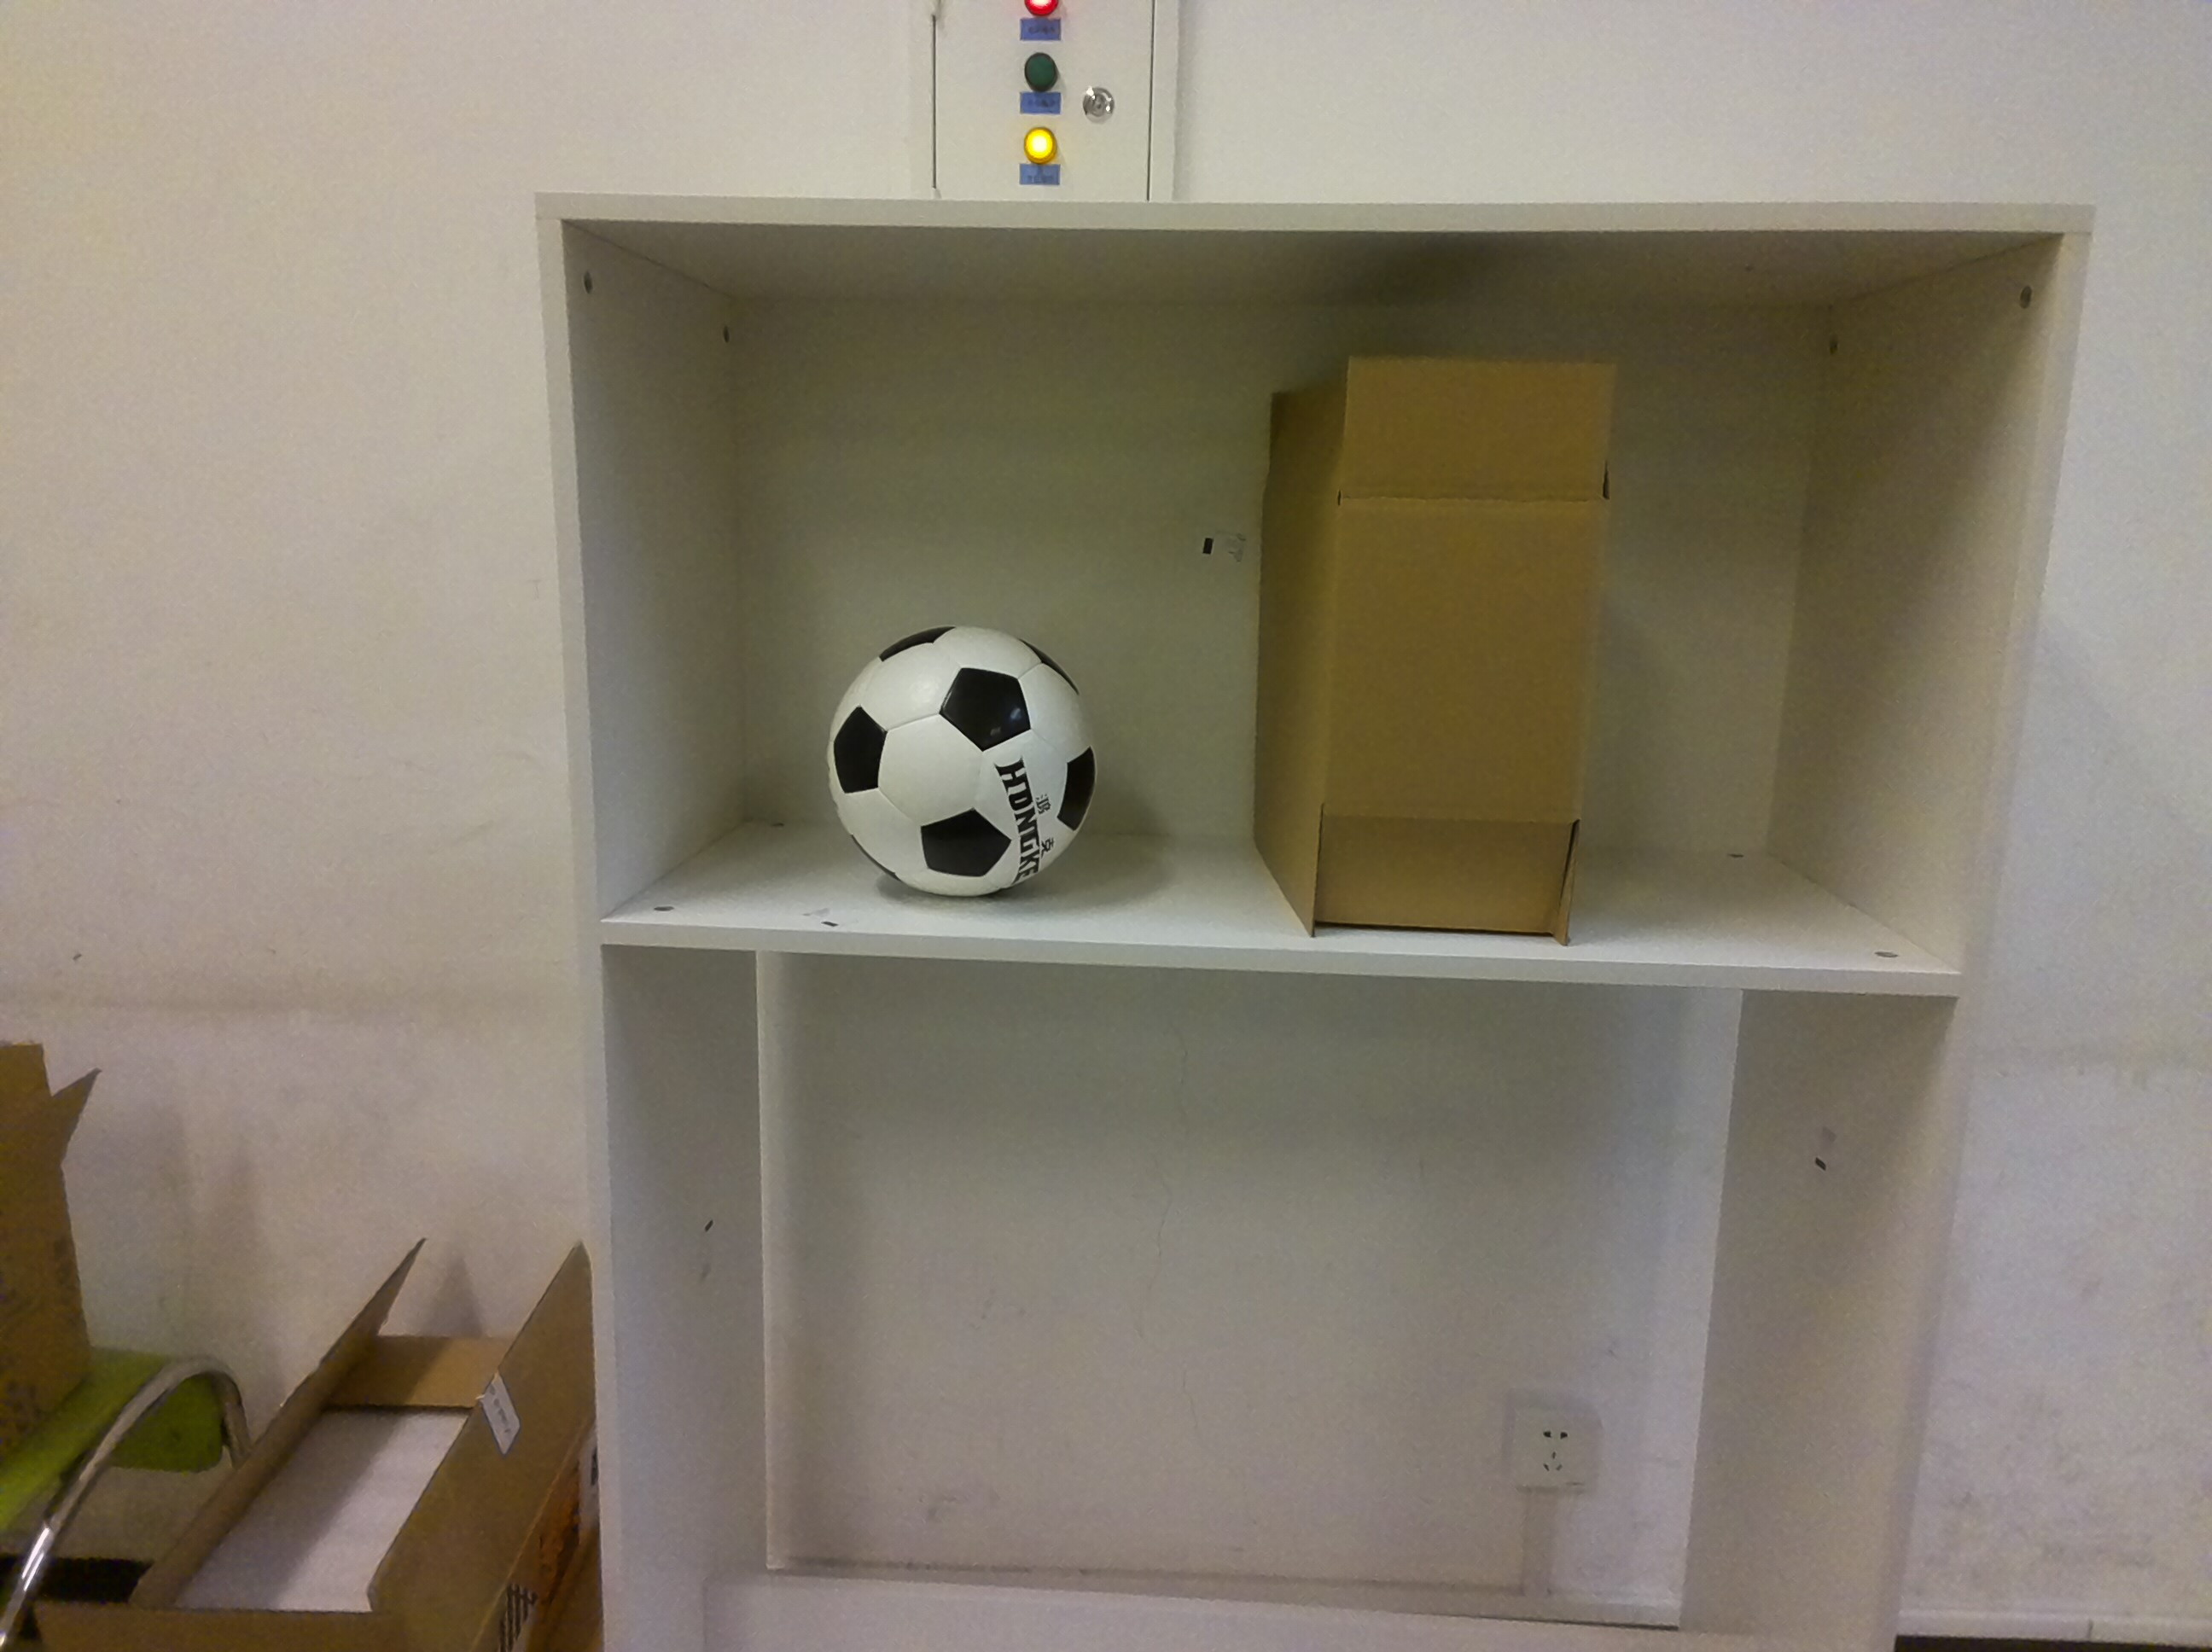football: (821, 625, 1112, 904)
